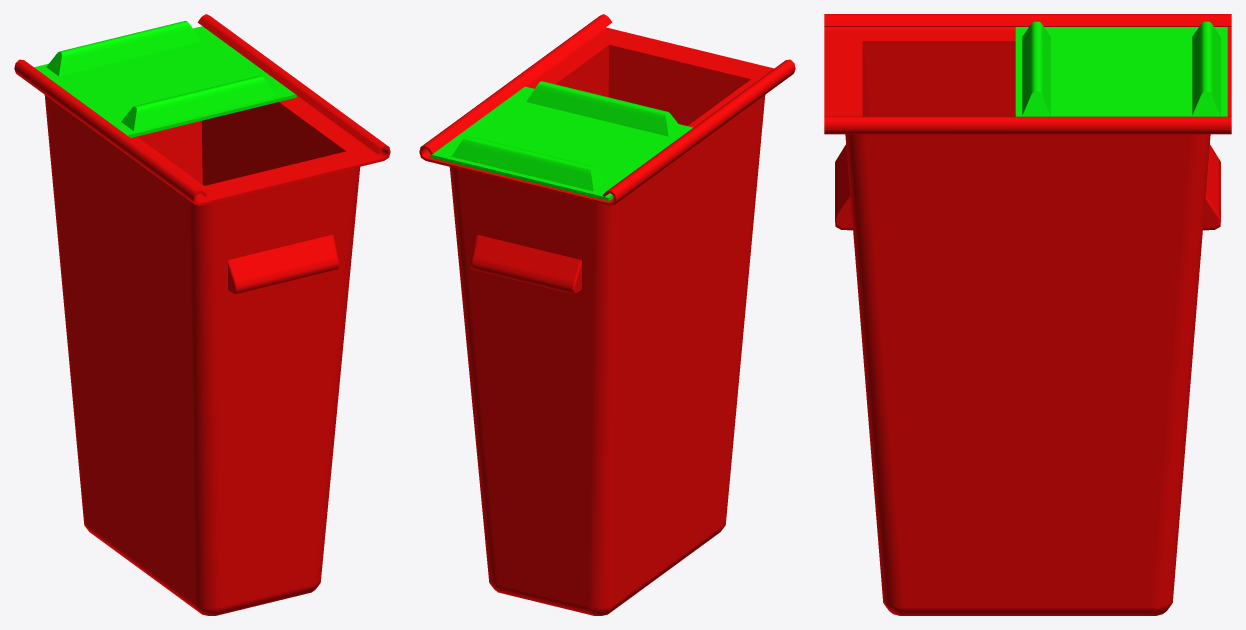
Rendered from Specialized Waste Container_Large.FBX.
3 views of the same model, side by side, from view 1: azimuth 30°, elevation 25°; view 2: azimuth 150°, elevation 25°; view 3: azimuth 270°, elevation 25° (orthographic). The views are drawn at different scales.
Visible parts, largest first — view 1: Specialized Waste Container_Large; view 2: Specialized Waste Container_Large; view 3: Specialized Waste Container_Large.
Part boxes in pixels (box(x1,y1,x2,y2)): Specialized Waste Container_Large: box(14, 14, 390, 615); Specialized Waste Container_Large: box(419, 14, 795, 615); Specialized Waste Container_Large: box(824, 14, 1231, 615).
Bounding box in the file's own units: 12.16 × 27.65 × 19.19.
